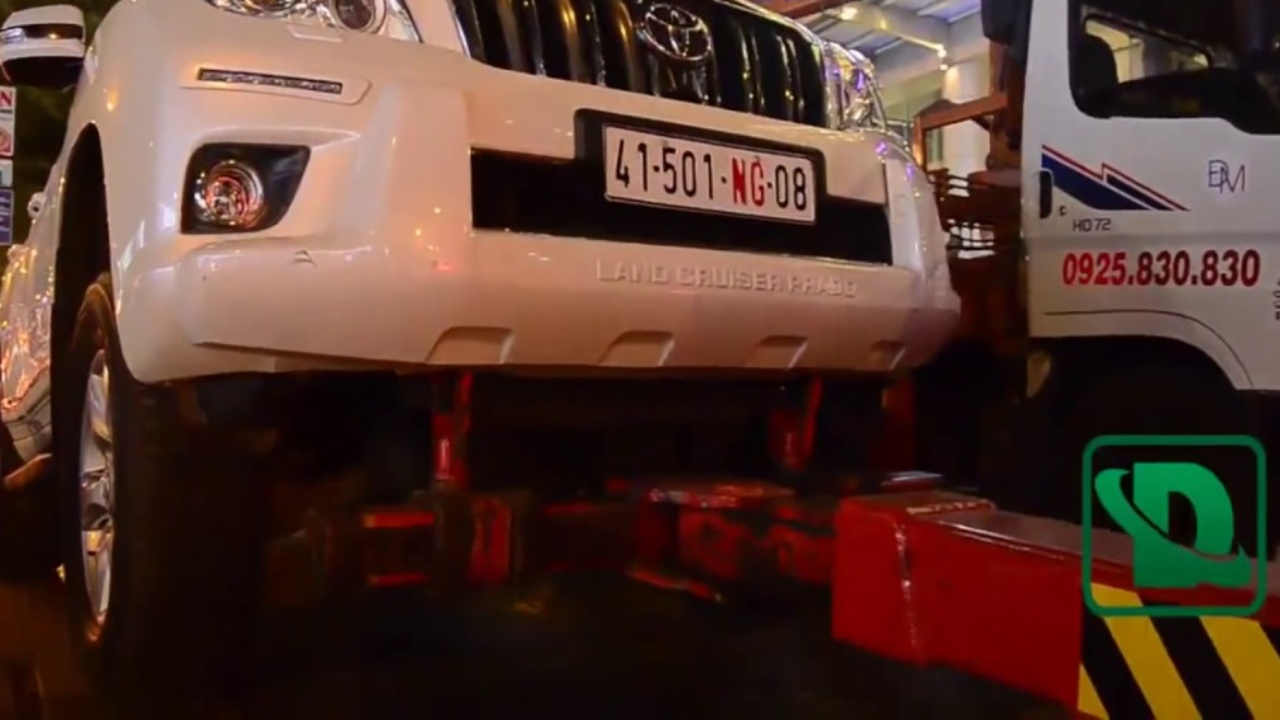plate: (598, 114, 822, 236)
